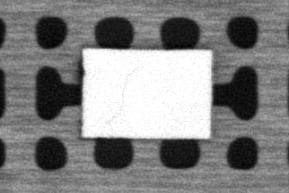DIE_CRACK: (109, 64, 141, 122)
